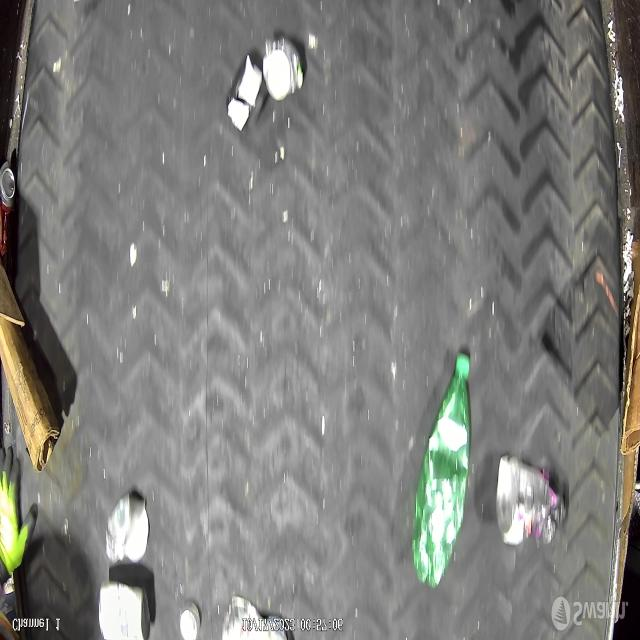can: (98, 582, 152, 640), (0, 161, 17, 256)
plastic_bottle: (410, 351, 472, 589)
